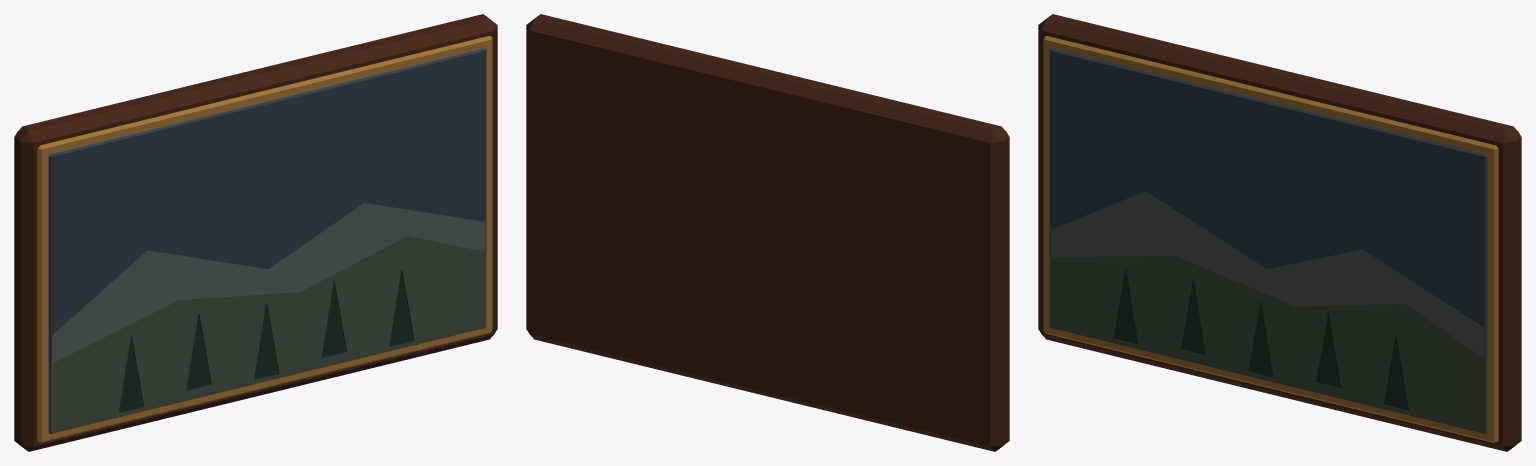
The model's file is FramedCountryside.glb.
The picture shows the model from 3 angles, left to right: view 1: azimuth 30°, elevation 25°; view 2: azimuth 150°, elevation 25°; view 3: azimuth 330°, elevation 25°; orthographic projection.
Visible parts, largest first — view 1: DuskCanvas, NearHills, OakPictureFrame, DistantHills, BrassLiner, TreeSilhouette.004, TreeSilhouette.002, TreeSilhouette.003, TreeSilhouette.001, TreeSilhouette; view 2: OakPictureFrame; view 3: DuskCanvas, NearHills, OakPictureFrame, DistantHills, BrassLiner, TreeSilhouette.002, TreeSilhouette.001, TreeSilhouette.003, TreeSilhouette.004, TreeSilhouette.
Part boxes in pixels (x1,y1,x2,y2): DuskCanvas: [48, 48, 486, 433]; NearHills: [52, 236, 486, 433]; OakPictureFrame: [14, 14, 497, 451]; DistantHills: [52, 203, 485, 432]; BrassLiner: [37, 35, 492, 443]; TreeSilhouette.004: [389, 270, 414, 347]; TreeSilhouette.002: [254, 303, 279, 379]; TreeSilhouette.003: [321, 281, 346, 357]; TreeSilhouette.001: [186, 314, 211, 390]; TreeSilhouette: [118, 336, 143, 412]; OakPictureFrame: [526, 14, 1009, 451]; DuskCanvas: [1049, 48, 1487, 433]; NearHills: [1049, 255, 1483, 433]; OakPictureFrame: [1038, 14, 1521, 451]; DistantHills: [1050, 191, 1483, 432]; BrassLiner: [1043, 35, 1498, 443]; TreeSilhouette.002: [1248, 301, 1273, 377]; TreeSilhouette.001: [1180, 279, 1205, 355]; TreeSilhouette.003: [1315, 311, 1340, 388]; TreeSilhouette.004: [1383, 334, 1408, 410]; TreeSilhouette: [1113, 268, 1138, 344].
Size of the model in its own units: 3.5 by 2.25 by 0.296.
